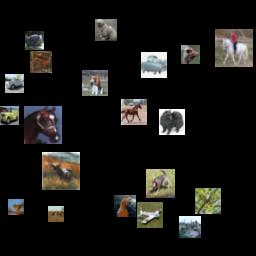airplane: (137, 202, 163, 228)
automobile: (141, 52, 167, 78), (5, 74, 24, 93)
bird: (195, 188, 221, 214), (181, 45, 200, 64), (48, 206, 64, 222), (8, 199, 24, 215)
deer: (42, 152, 80, 190), (179, 216, 201, 238)
dog: (146, 169, 175, 198), (159, 109, 185, 135), (82, 70, 108, 96), (95, 19, 117, 41)
frog: (25, 31, 44, 50)
truck: (0, 106, 19, 125)
